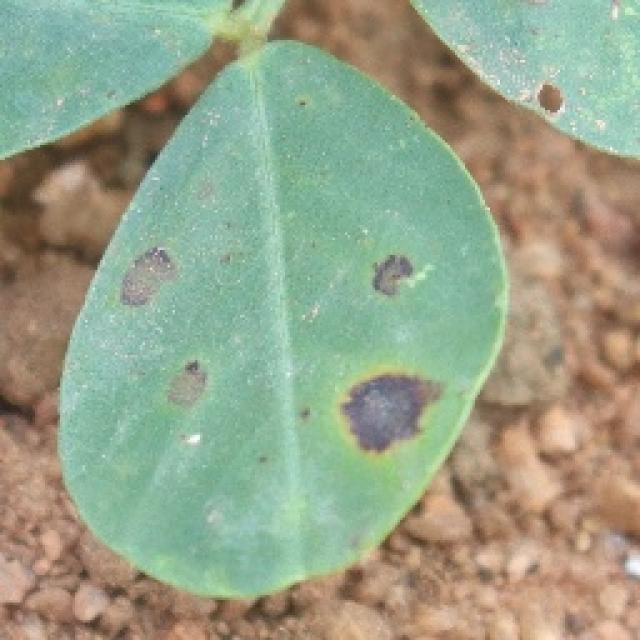Yellowish: (302, 208, 458, 488), (101, 230, 229, 424), (502, 48, 572, 141)
